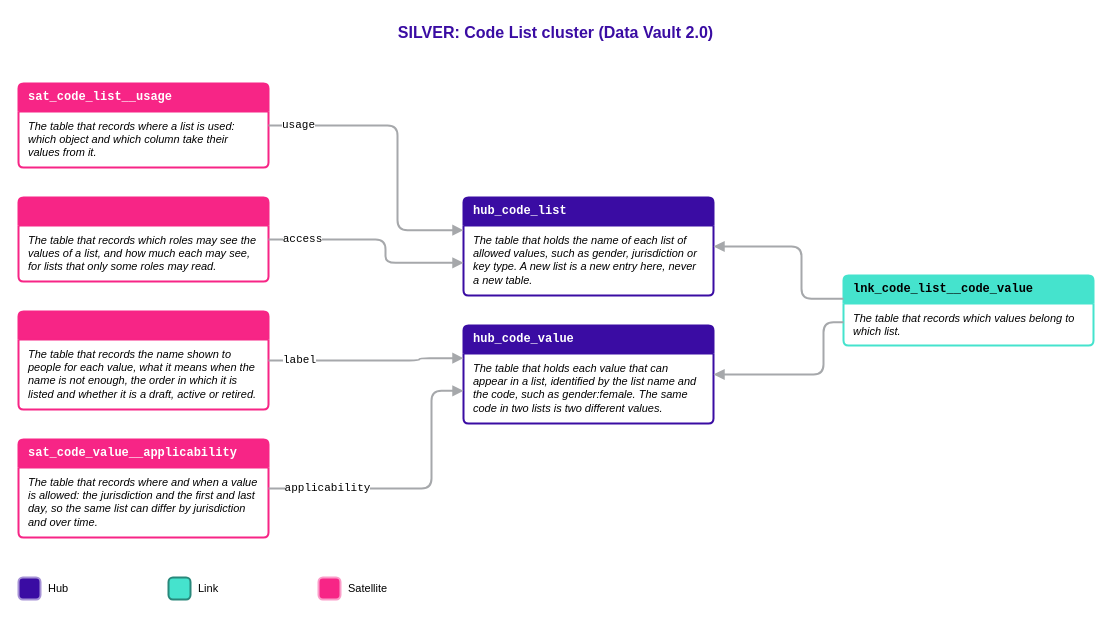
This 1111x617 diagram has some shape labels left out. Each missing label, with the box of its shape:
sat_code_list__access: (17, 196, 269, 282)
sat_code_value__label: (17, 310, 269, 410)
